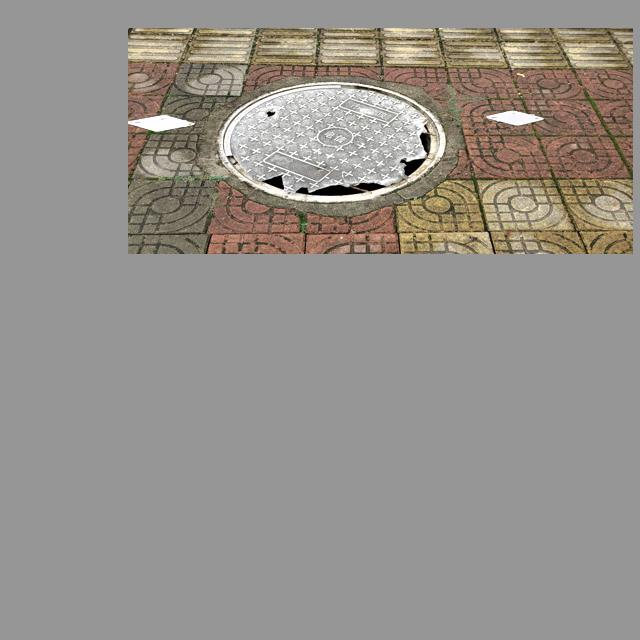broke: (215, 81, 446, 204)
